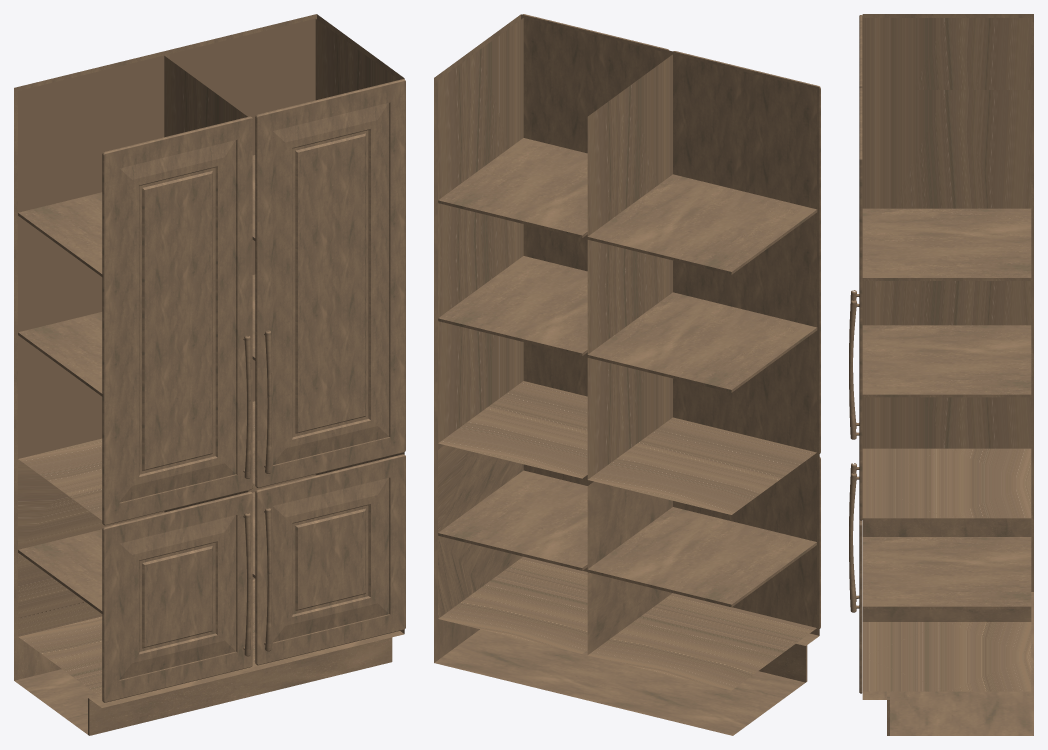
File: Project Name.gltf
3 views of the same model, side by side, from view 1: azimuth 30°, elevation 25°; view 2: azimuth 150°, elevation 25°; view 3: azimuth 270°, elevation 25° (orthographic). The views are drawn at different scales.
Parts seen in each view (by area): view 1: Buffer Object; view 2: Buffer Object; view 3: Buffer Object.
Boxes of the visible parts, x1,y1,x2,y2 form: Buffer Object: (14,14,405,735); Buffer Object: (434,14,820,735); Buffer Object: (849,14,1033,735).
Size of the model in its own units: 0.1113 by 0.2083 by 0.0604.
1 material, 1 textured.
